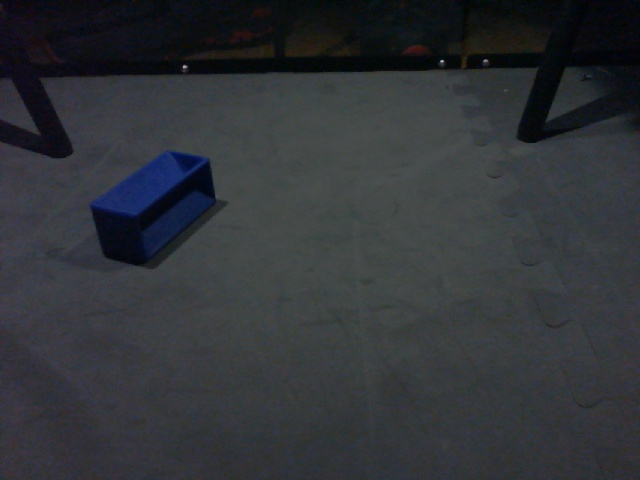BlueSample: (88, 148, 218, 269)
